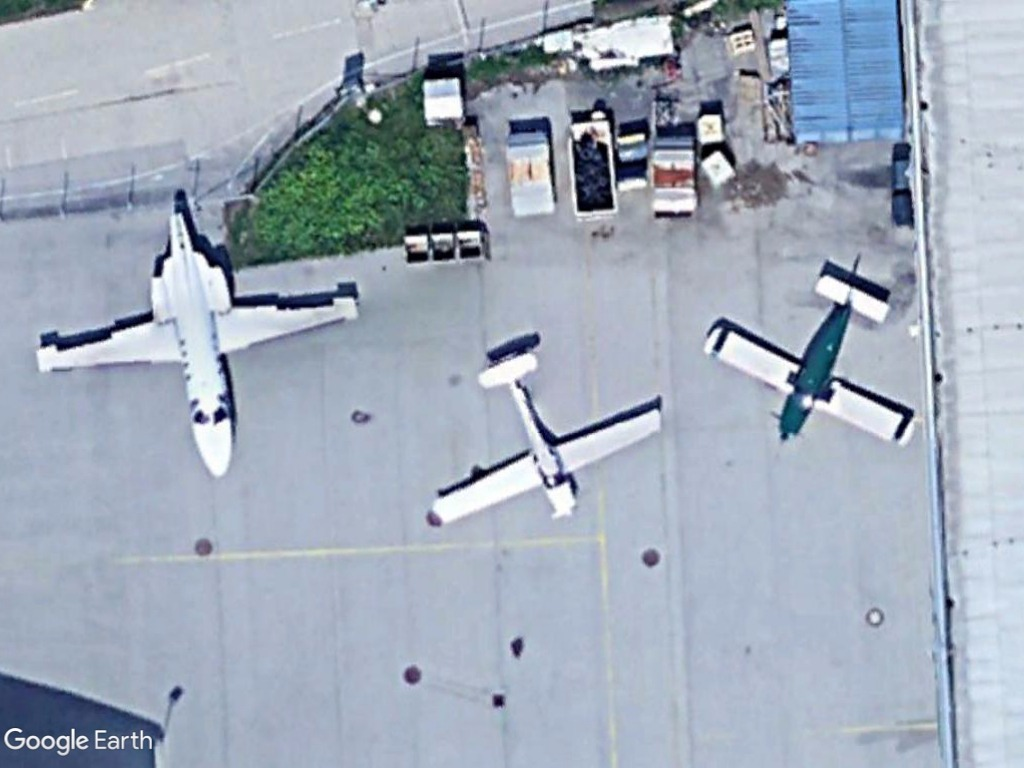trainer: (417, 344, 670, 537), (696, 269, 925, 451)
